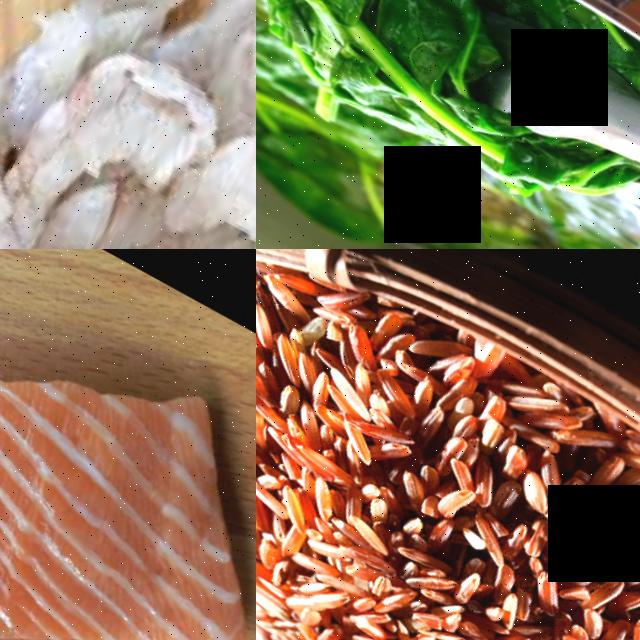red rice: (256, 249, 640, 640)
salmon: (0, 249, 256, 640)
shrimp: (0, 10, 228, 249), (138, 91, 256, 249), (36, 0, 224, 42)
spinach: (358, 0, 519, 102), (308, 38, 411, 128), (282, 0, 373, 28)
